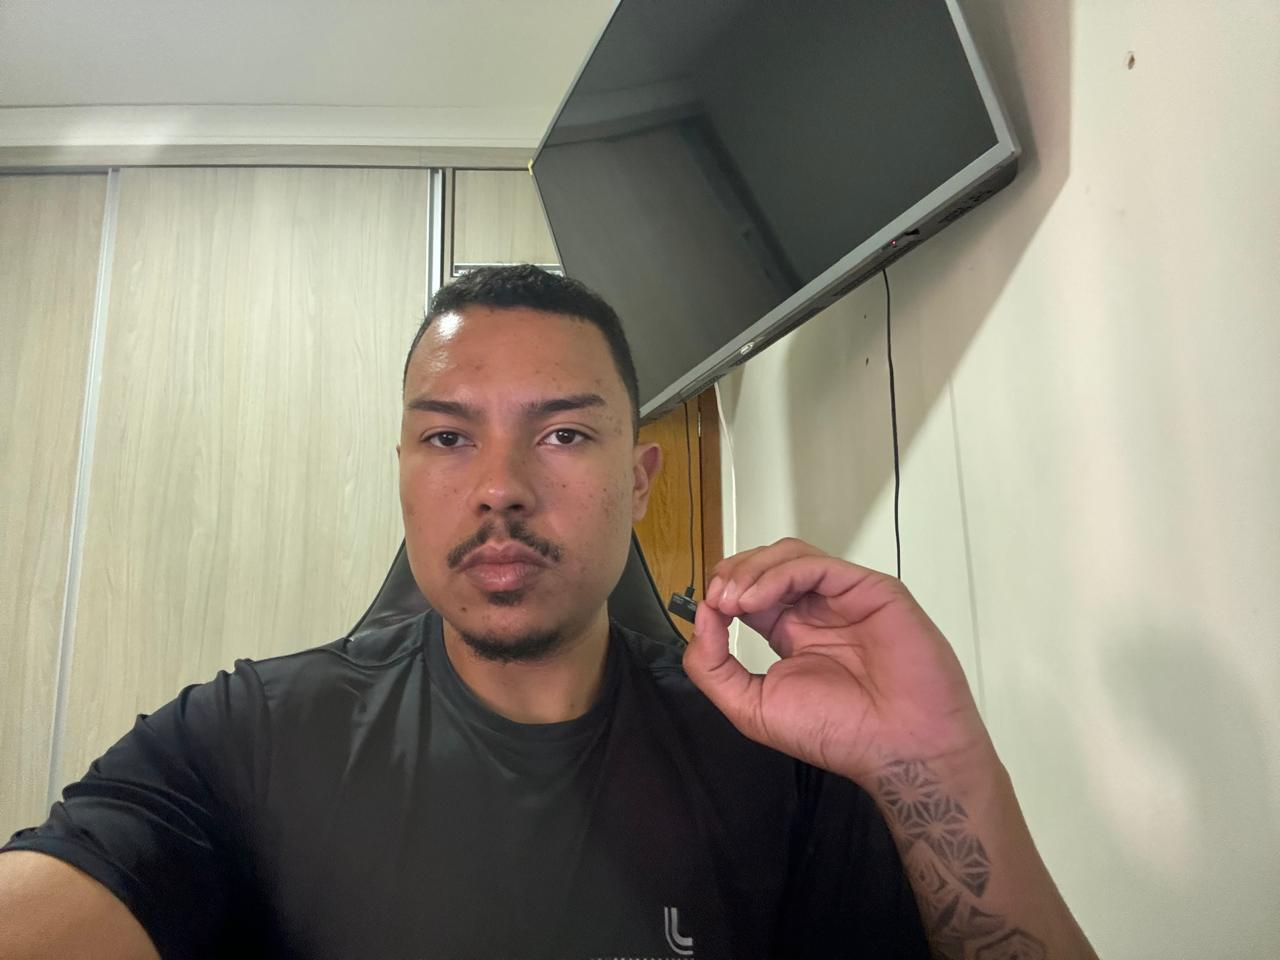o: (673, 522, 990, 781)
